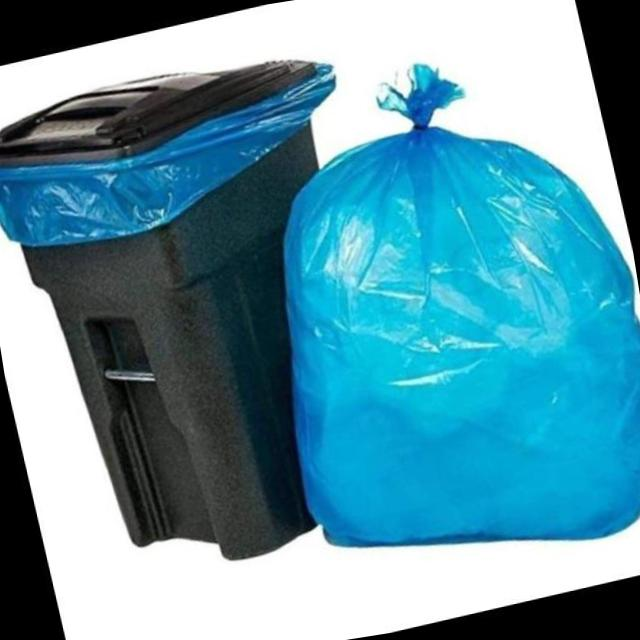KantongPlastik: (238, 33, 640, 584)
